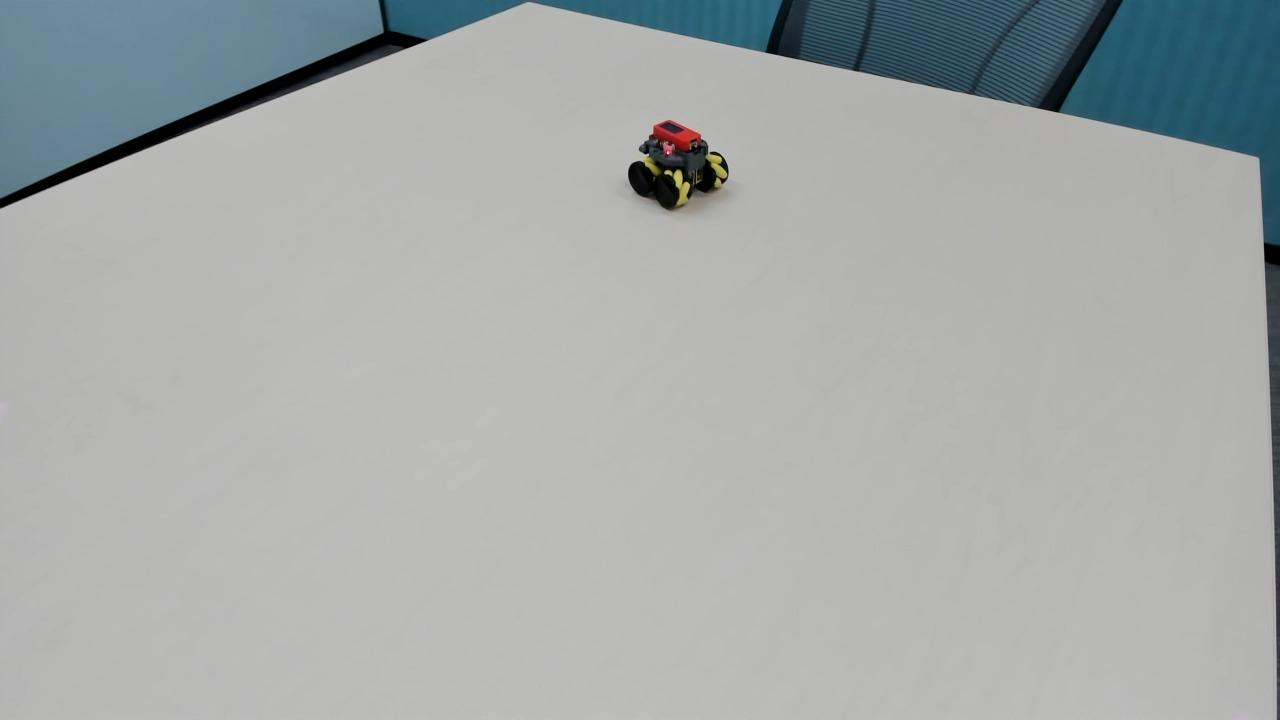R-Robot: (621, 101, 746, 230)
